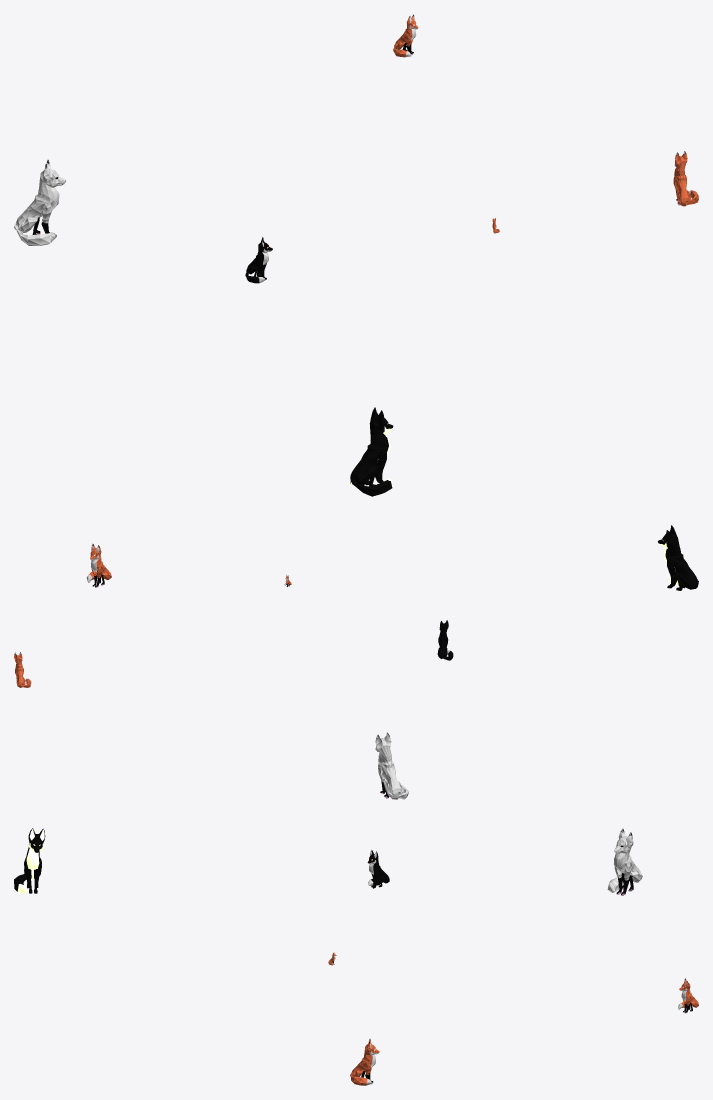
File: liski.glb
3 renders of one model, top to bottom at view 1: azimuth 30°, elevation 25°; view 2: azimuth 150°, elevation 25°; view 3: azimuth 270°, elevation 25°, orthographic. The views are drawn at different scales.
Visible parts, largest first — view 1: LisekLanguage, LisekUnity, LisekWebdev; view 2: LisekLanguage, LisekUnity, LisekWebdev; view 3: LisekUnity, LisekLanguage, LisekWebdev, LisekBricscad.
Boxes of the visible parts, bbox=[...] form: LisekLanguage: bbox=[350, 407, 393, 496]; LisekUnity: bbox=[14, 159, 65, 245]; LisekWebdev: bbox=[673, 151, 698, 206]; LisekLanguage: bbox=[657, 525, 698, 590]; LisekUnity: bbox=[375, 732, 408, 799]; LisekWebdev: bbox=[86, 543, 111, 587]; LisekUnity: bbox=[607, 828, 642, 895]; LisekLanguage: bbox=[14, 828, 45, 893]; LisekWebdev: bbox=[350, 1038, 379, 1085]; LisekBricscad: bbox=[367, 850, 389, 888].
Size of the model in its own units: 11.13 by 2 by 14.08.
